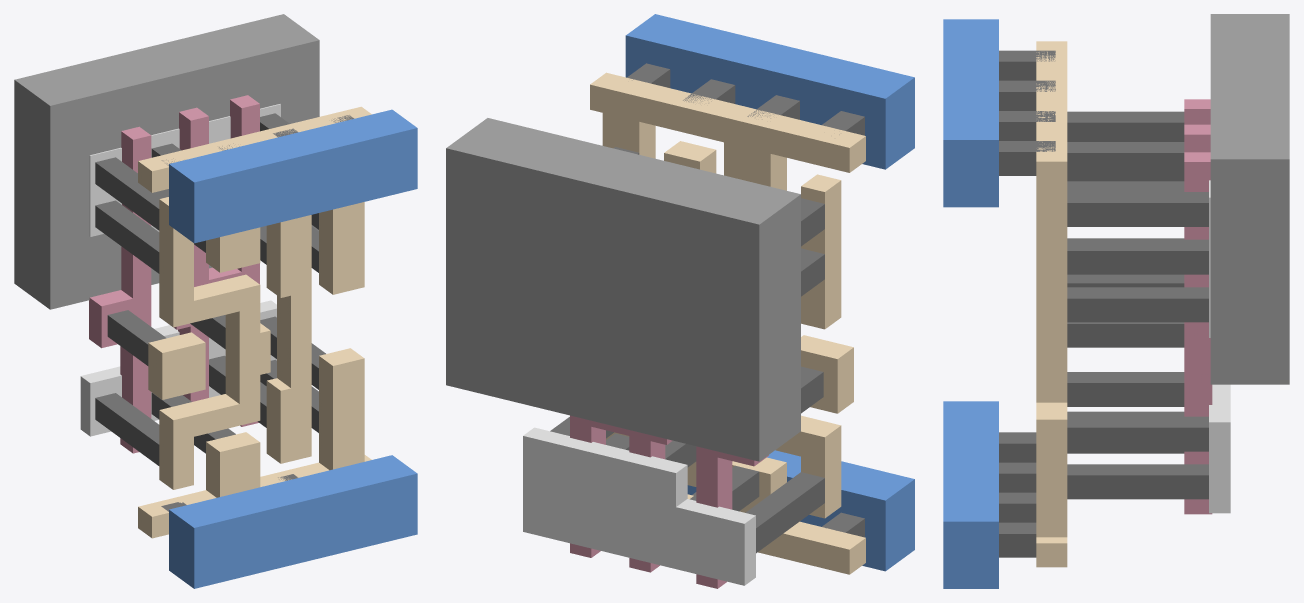
Rendered from sky130_fd_sc_hd__buf_2.gds.gltf.
3 views of the same model, side by side, from view 1: azimuth 30°, elevation 25°; view 2: azimuth 150°, elevation 25°; view 3: azimuth 270°, elevation 25° (orthographic). The views are drawn at different scales.
Visible parts, largest first — view 1: sky130_fd_sc_hd__buf_2_li1, sky130_fd_sc_hd__buf_2_met1, sky130_fd_sc_hd__buf_2_nwell, sky130_fd_sc_hd__buf_2_licon, sky130_fd_sc_hd__buf_2_poly, sky130_fd_sc_hd__buf_2_diff; view 2: sky130_fd_sc_hd__buf_2_nwell, sky130_fd_sc_hd__buf_2_li1, sky130_fd_sc_hd__buf_2_met1, sky130_fd_sc_hd__buf_2_diff, sky130_fd_sc_hd__buf_2_licon, sky130_fd_sc_hd__buf_2_poly, sky130_fd_sc_hd__buf_2_mcon; view 3: sky130_fd_sc_hd__buf_2_licon, sky130_fd_sc_hd__buf_2_nwell, sky130_fd_sc_hd__buf_2_met1, sky130_fd_sc_hd__buf_2_li1, sky130_fd_sc_hd__buf_2_mcon, sky130_fd_sc_hd__buf_2_poly, sky130_fd_sc_hd__buf_2_diff.
Part boxes in pixels (x1,y1,x2,y2): sky130_fd_sc_hd__buf_2_li1: [138, 106, 371, 538]; sky130_fd_sc_hd__buf_2_met1: [169, 109, 417, 588]; sky130_fd_sc_hd__buf_2_nwell: [14, 14, 319, 309]; sky130_fd_sc_hd__buf_2_licon: [95, 113, 325, 465]; sky130_fd_sc_hd__buf_2_poly: [89, 95, 259, 453]; sky130_fd_sc_hd__buf_2_diff: [80, 104, 280, 436]; sky130_fd_sc_hd__buf_2_nwell: [446, 118, 800, 461]; sky130_fd_sc_hd__buf_2_li1: [590, 72, 865, 574]; sky130_fd_sc_hd__buf_2_met1: [625, 14, 914, 571]; sky130_fd_sc_hd__buf_2_diff: [523, 427, 755, 585]; sky130_fd_sc_hd__buf_2_licon: [550, 147, 824, 553]; sky130_fd_sc_hd__buf_2_poly: [570, 415, 768, 588]; sky130_fd_sc_hd__buf_2_mcon: [627, 63, 864, 537]; sky130_fd_sc_hd__buf_2_licon: [1067, 111, 1208, 499]; sky130_fd_sc_hd__buf_2_nwell: [1210, 14, 1289, 384]; sky130_fd_sc_hd__buf_2_met1: [943, 19, 998, 588]; sky130_fd_sc_hd__buf_2_li1: [1036, 41, 1067, 567]; sky130_fd_sc_hd__buf_2_mcon: [999, 50, 1055, 557]; sky130_fd_sc_hd__buf_2_poly: [1184, 99, 1212, 514]; sky130_fd_sc_hd__buf_2_diff: [1209, 180, 1230, 513].
Bounding box in the file's own units: 2.22 × 3.2 × 2.24.
